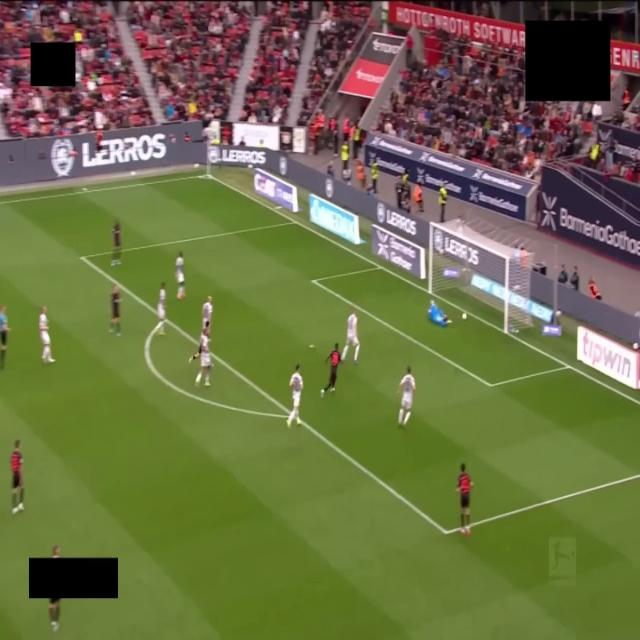ball: (462, 313, 466, 319)
player: (456, 464, 473, 535), (321, 344, 341, 396), (287, 365, 303, 428), (11, 440, 24, 514), (399, 367, 415, 426), (196, 328, 212, 386), (342, 310, 359, 364), (39, 307, 54, 363), (154, 282, 166, 335), (428, 301, 451, 327), (110, 285, 120, 336), (176, 252, 186, 300), (112, 220, 121, 266), (49, 598, 60, 632), (202, 296, 212, 329), (189, 342, 201, 362)
referee: (0, 306, 9, 369)
